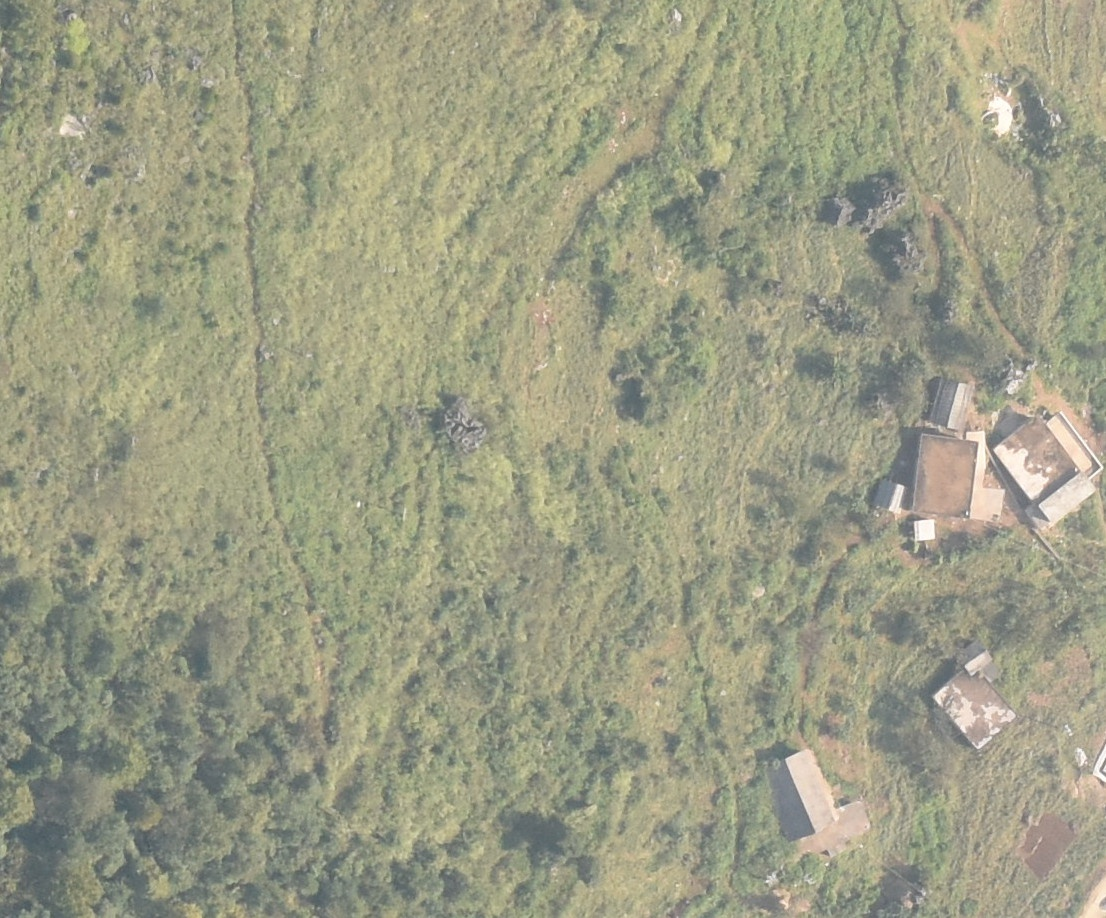building: (992, 418, 1099, 525), (757, 748, 840, 843), (933, 667, 1020, 750), (907, 434, 980, 520), (798, 801, 872, 860), (924, 377, 973, 427), (871, 477, 905, 513), (912, 518, 937, 541)
cable-tower: (1062, 723, 1076, 738), (400, 505, 409, 523)
